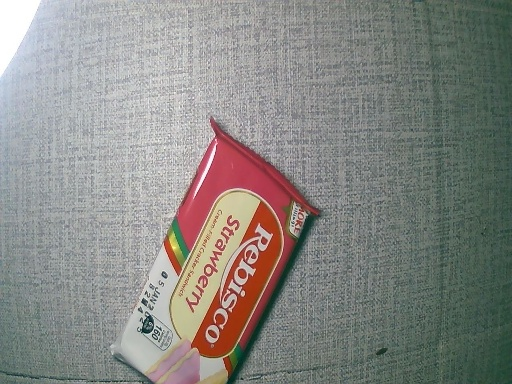plastic: (111, 118, 317, 384)
